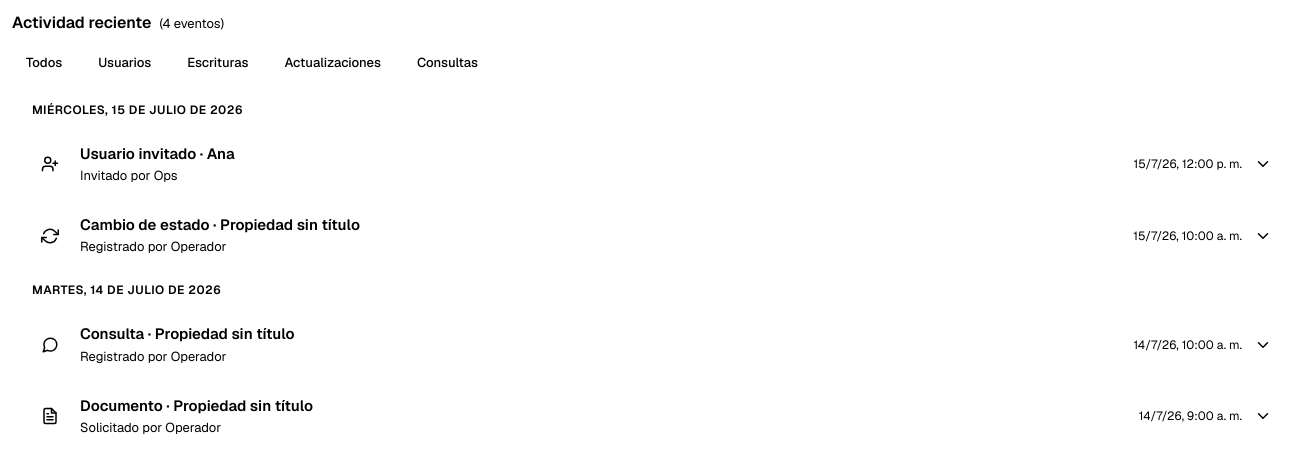
Test case: TenantActivityFeed — category filter › filtering by "Escrituras" shows only document_request items
The image size is (1304, 451).
Click the button with test id "tenant-activity-filter-deed": point(218, 63) x1=173 y1=47 x2=262 y2=78
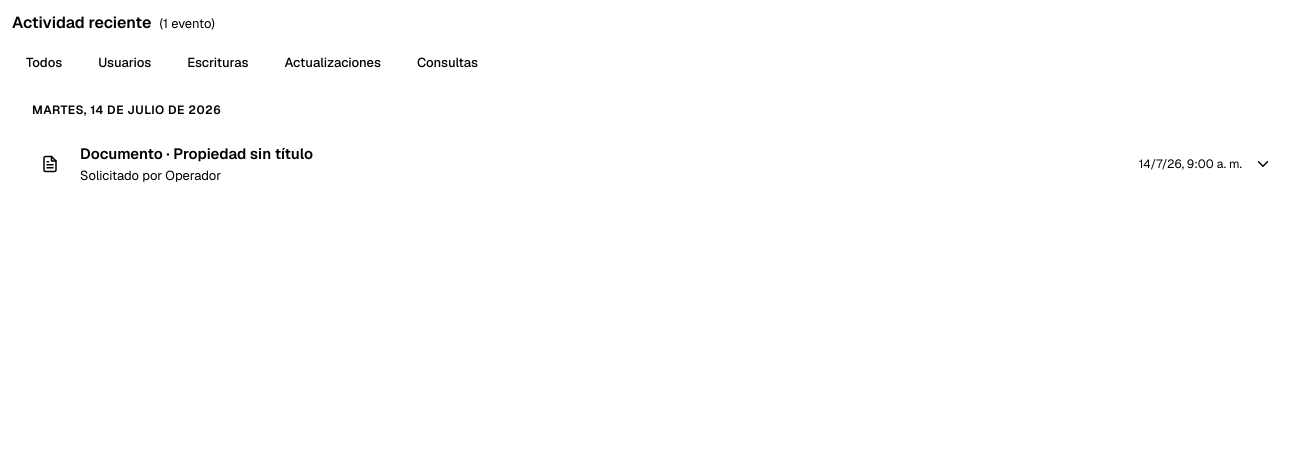
Check: the list item with test id "tenant-activity-item-deed-1" is shown, box x1=12 y1=128 x2=1292 y2=200
Check: the list item with test id "tenant-activity-item-user-1" is gone
Check: the list item with test id "tenant-activity-item-inquiry-1" is gone
